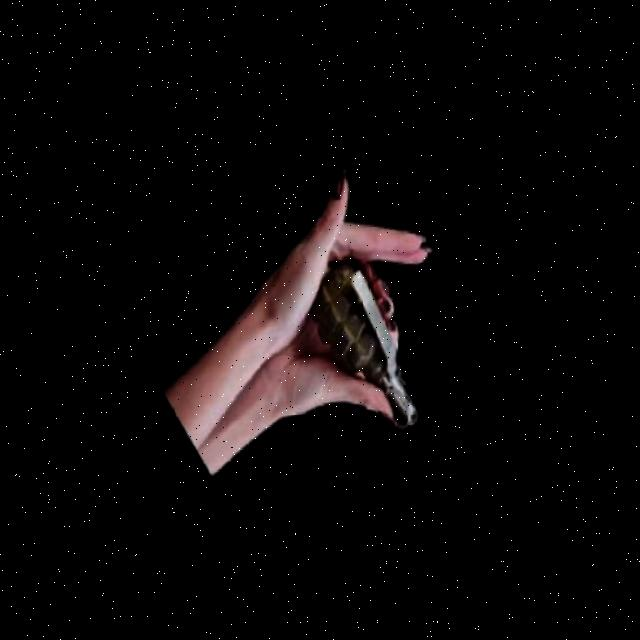grenade: (263, 239, 440, 452)
